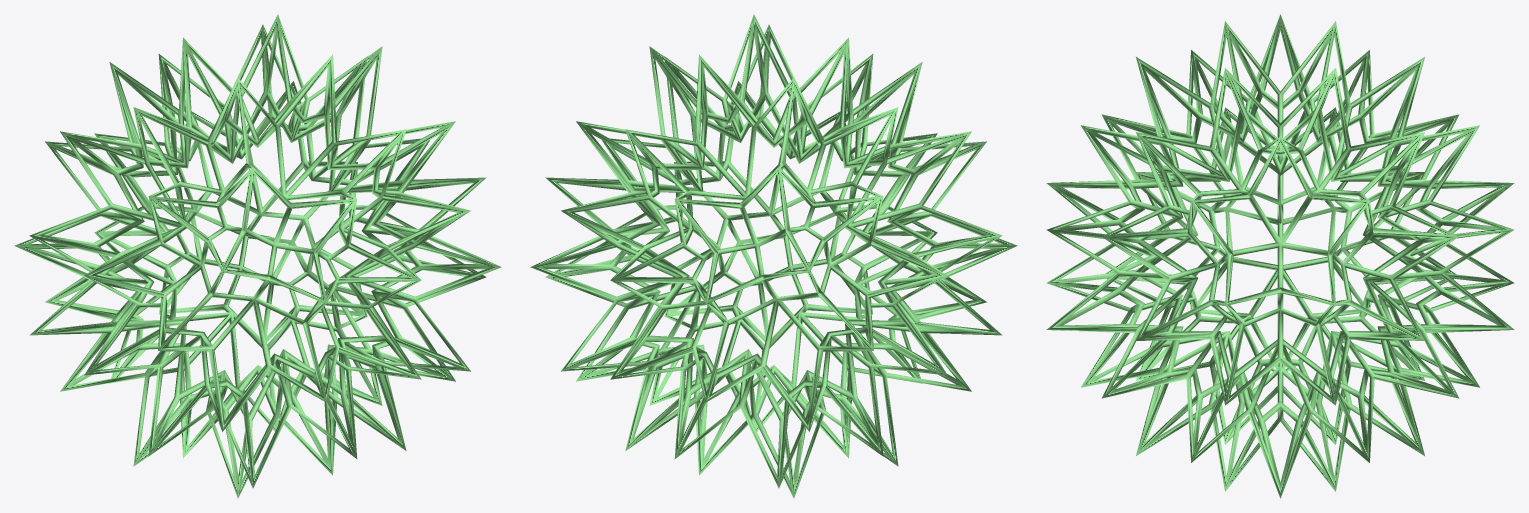
File: RhombicosidodecahedronK1.glb
3 views of the same model, side by side, from view 1: azimuth 30°, elevation 25°; view 2: azimuth 150°, elevation 25°; view 3: azimuth 270°, elevation 25° (orthographic).
Parts seen in each view (by area): view 1: Rhombicosidodecahedron; view 2: Rhombicosidodecahedron; view 3: Rhombicosidodecahedron.
Boxes of the visible parts, bbox=[...] form: Rhombicosidodecahedron: bbox=[14, 14, 501, 498]; Rhombicosidodecahedron: bbox=[530, 14, 1017, 498]; Rhombicosidodecahedron: bbox=[1046, 14, 1514, 498].
Bounding box in the file's own units: 4.29 × 4.29 × 4.29.
